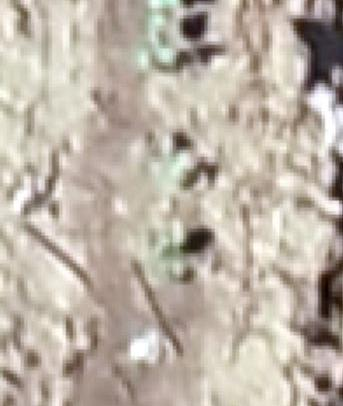cotton: (148, 44, 175, 66), (153, 238, 170, 272), (161, 161, 184, 185), (151, 12, 165, 30)
